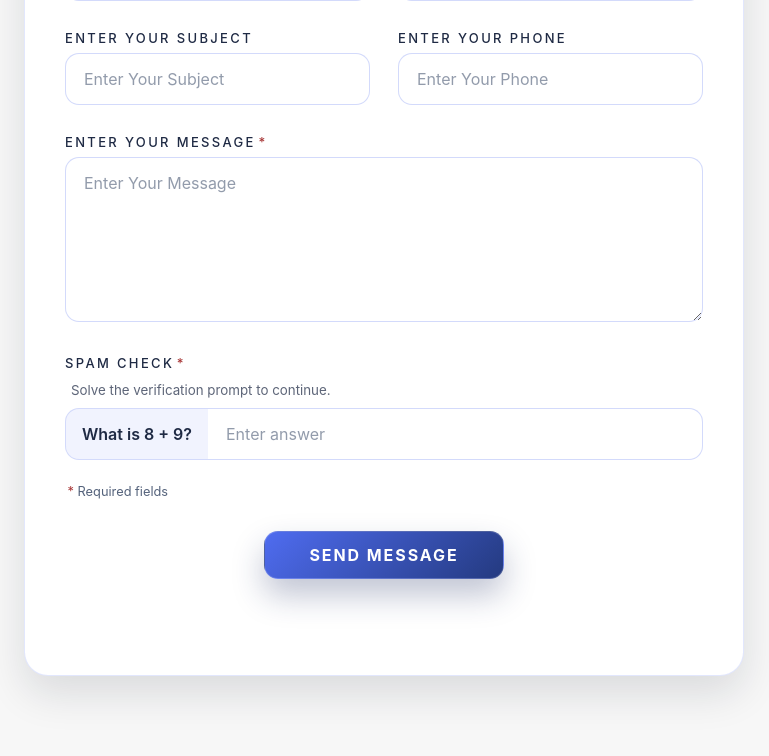
it: Contact › rejects a wrong challenge answer without posting, announcing via the single live region
(page scrolled)
Type "definitely-wrong" into the field with id "contact-challenge" at (455, 434), box [208,409,702,459]
(page scrolled)
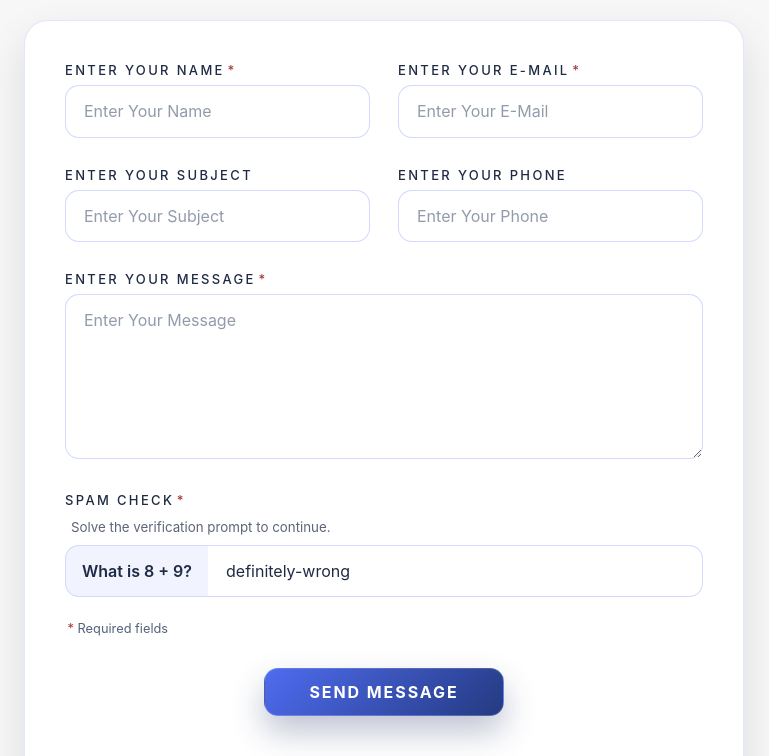
Submit the form
(page scrolled)
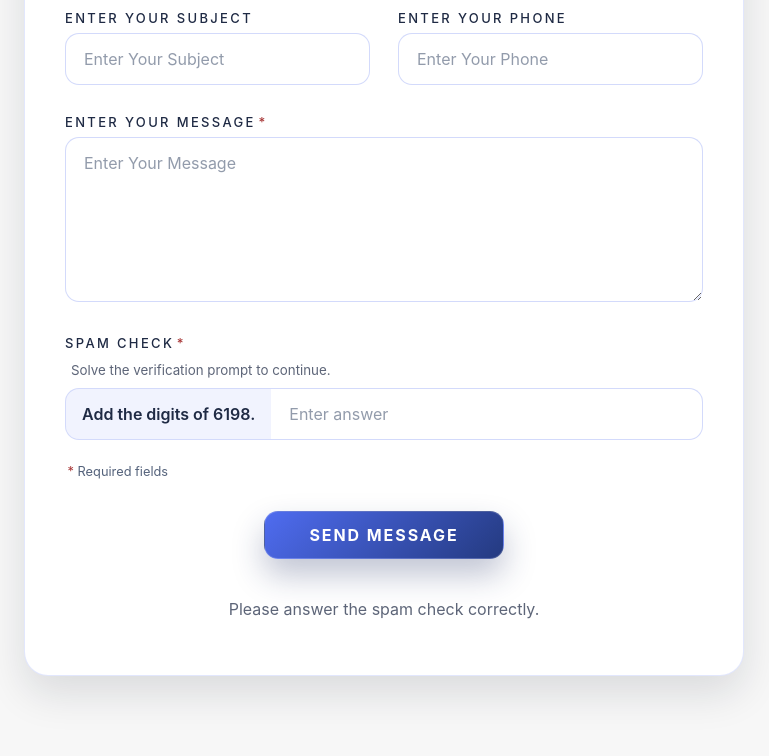
Now the message with id "msg" shows "spam check", box [229,599,539,619]
Now the number of messages is 1, box [229,599,539,619]
